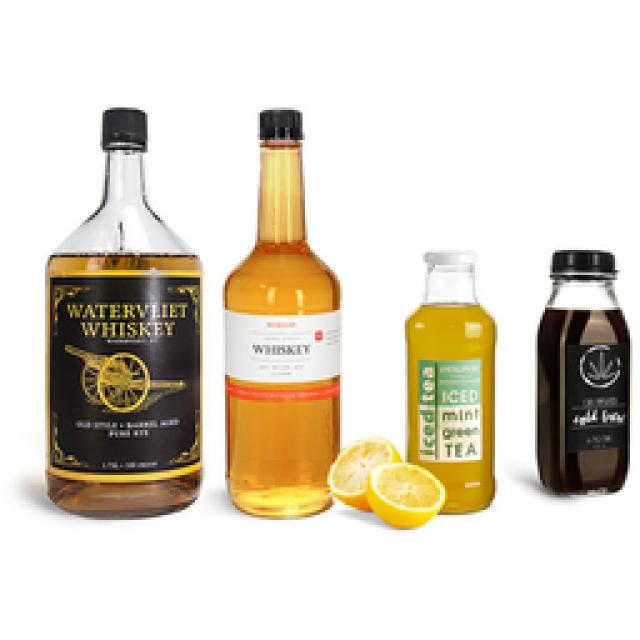glass_beverage_bottles: (45, 100, 203, 513), (224, 110, 358, 498), (405, 240, 500, 517)
